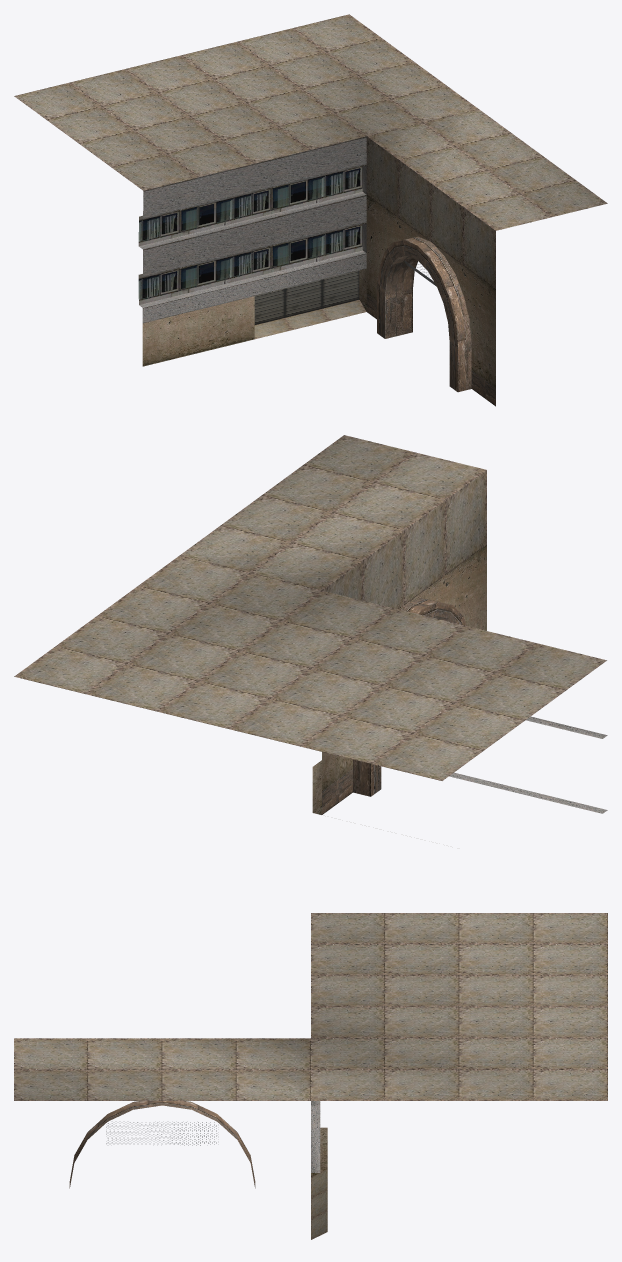
The model's file is M11Z1_TownWall03.glb.
3 views of the same model, one above another, from view 1: azimuth 30°, elevation 25°; view 2: azimuth 150°, elevation 25°; view 3: azimuth 270°, elevation 25° (orthographic). The views are drawn at different scales.
Parts seen in each view (by area): view 1: M11Z1_TOWNWALL03; view 2: M11Z1_TOWNWALL03; view 3: M11Z1_TOWNWALL03.
Part boxes in pixels (box(x1,y1,x2,y2)): M11Z1_TOWNWALL03: box(14, 14, 607, 406); M11Z1_TOWNWALL03: box(14, 435, 607, 814); M11Z1_TOWNWALL03: box(14, 913, 607, 1239).
Bounding box in the file's own units: 24 × 12 × 32.
8 materials, 8 textured.
